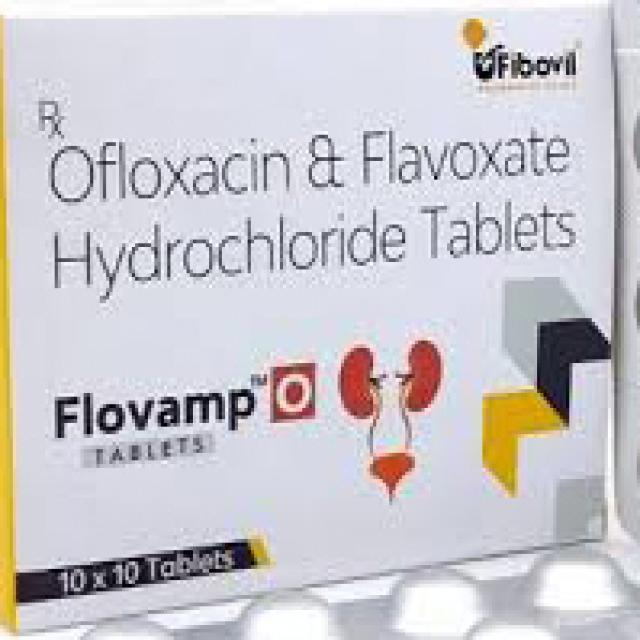drug-name: (47, 369, 316, 436)
